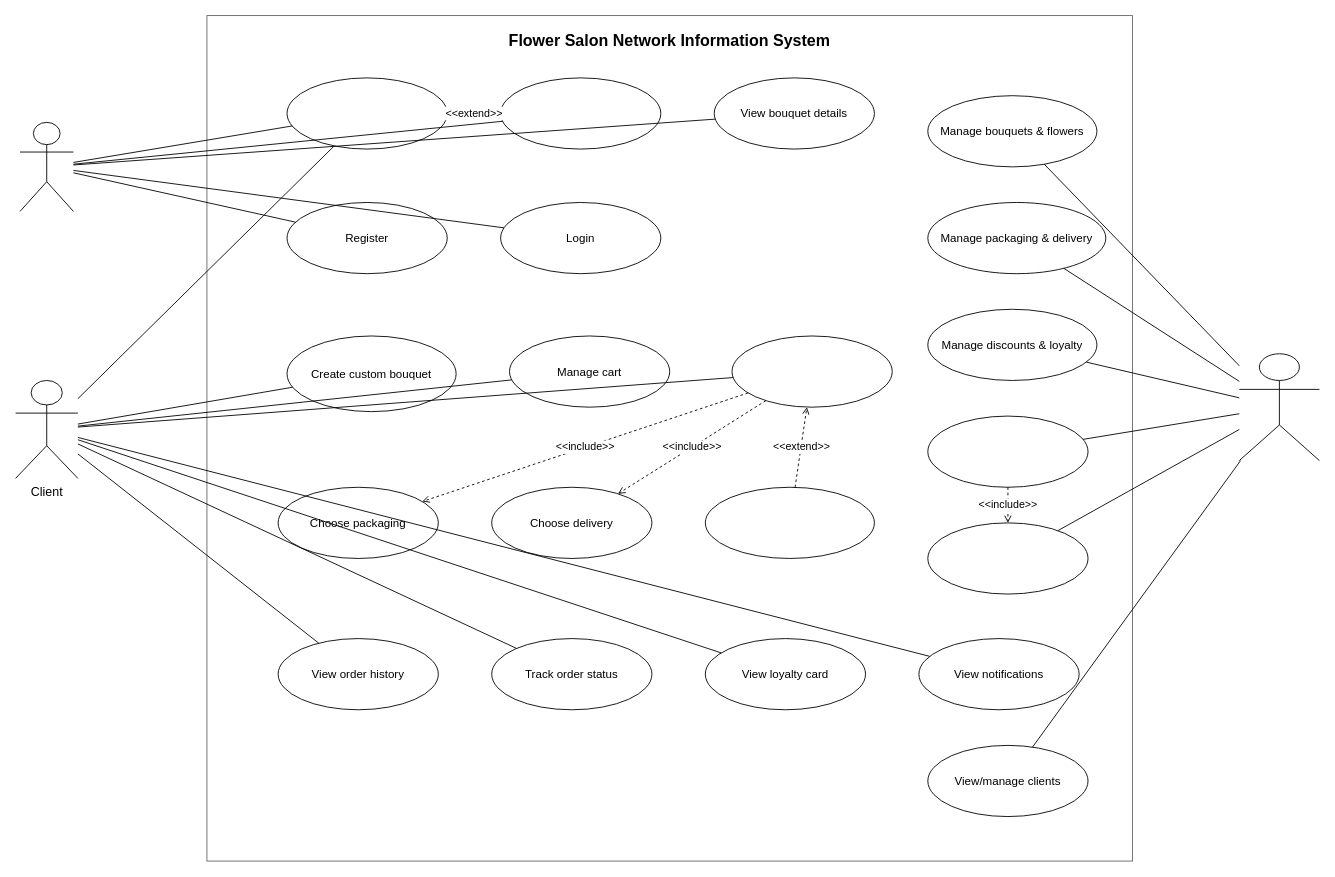
Some shapes in this 1335 by 877 pixel diagram are drawn without their labels. Here are the shapes that lost their labels. From the top down, the centre of each, then its label:
At pixel 366 113: "Browse bouquet catalog".
At pixel 580 113: "Filter by occasion".
At pixel 46 166: "Guest".
At pixel 811 371: "Place order".
At pixel 1278 407: "Administrator".
At pixel 1007 451: "Manage orders".
At pixel 789 522: "Apply discount / bonuses".
At pixel 1007 558: "Change order status".
